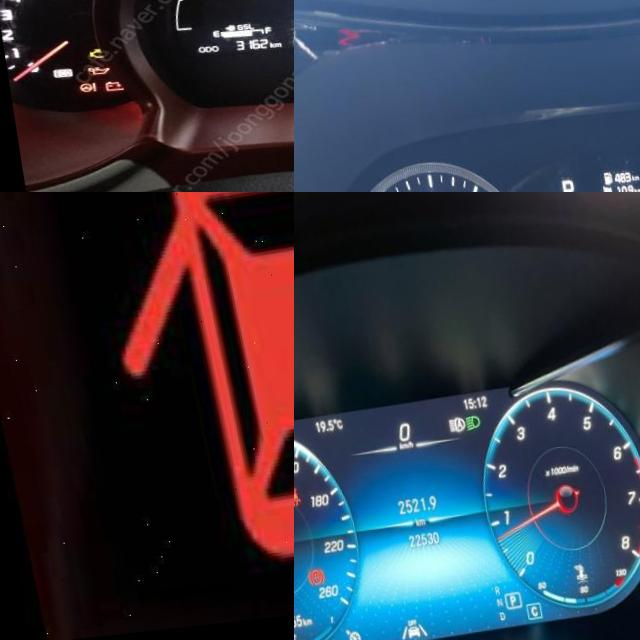LaneCenteringOff: (383, 629, 411, 640)
Low beam: (454, 423, 472, 441)
